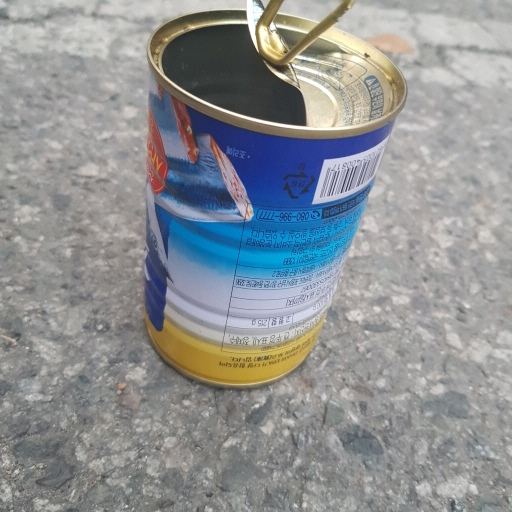Metal_1: (142, 1, 408, 393)
